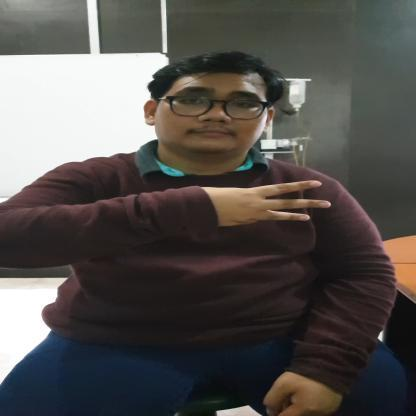E: (206, 180, 332, 228)
